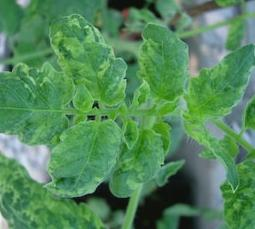Tomato leaf mosaic virus: (50, 12, 127, 110), (47, 114, 130, 201), (0, 62, 81, 148), (178, 42, 255, 125), (138, 12, 191, 104)
